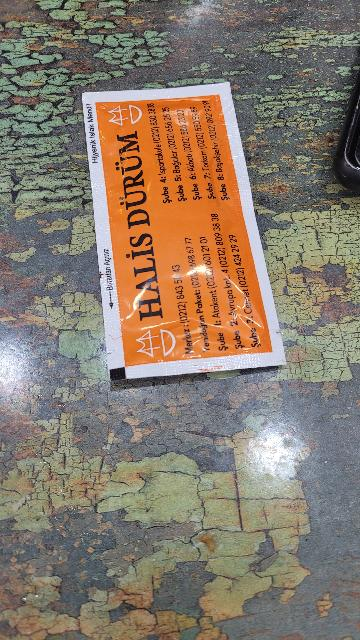Plastik: (82, 66, 290, 384)
